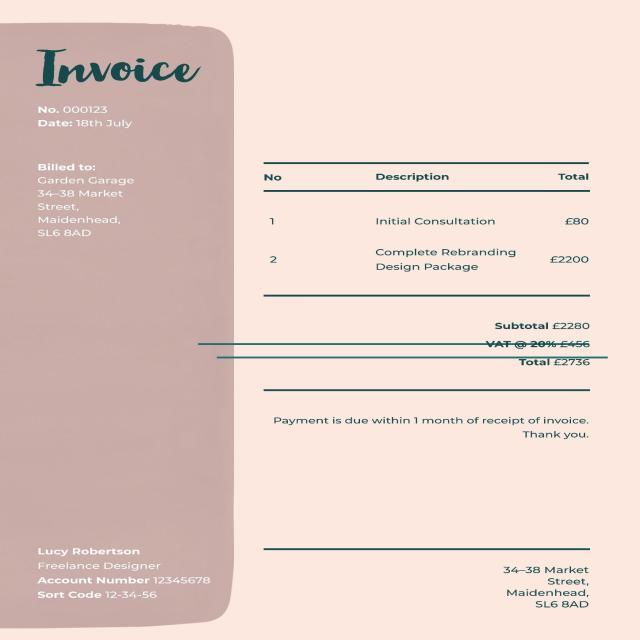ROI: (251, 161, 608, 299), (29, 542, 213, 610), (270, 417, 592, 448), (32, 160, 137, 238), (28, 46, 206, 91), (484, 320, 612, 380), (497, 564, 599, 610), (32, 105, 134, 134)
